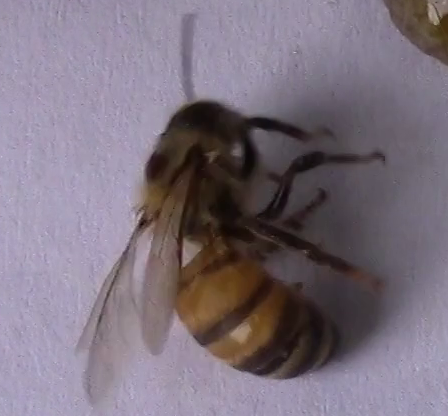Varroa destructor: (138, 154, 172, 185)
